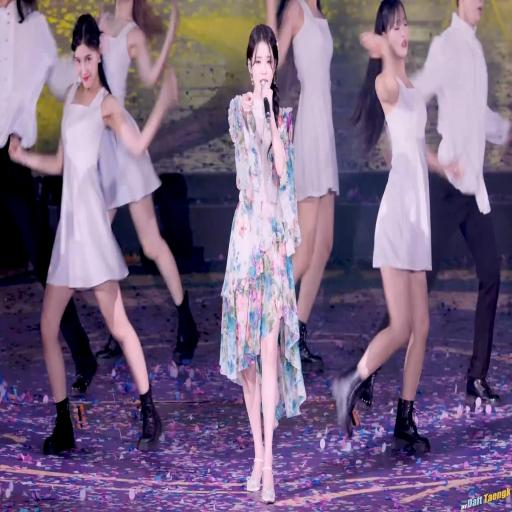IU: (246, 24, 279, 99)
